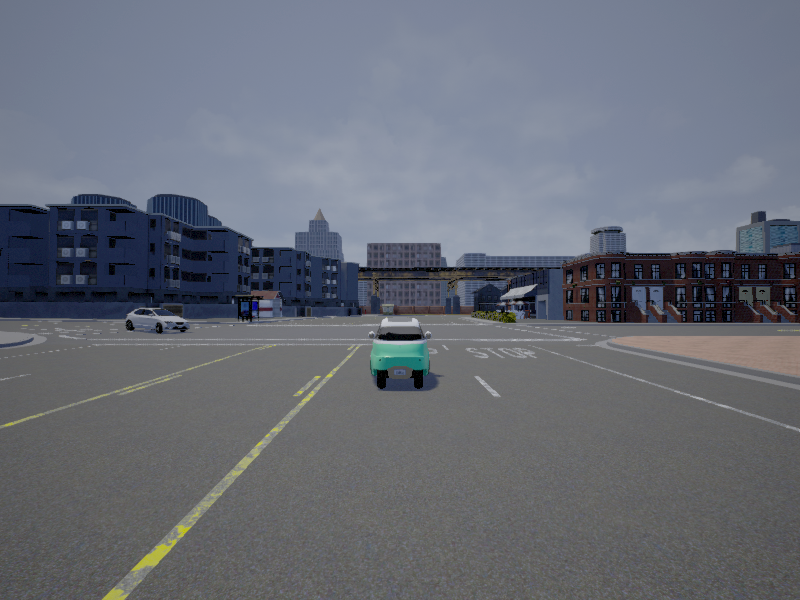Benign: (370, 316, 433, 390), (125, 306, 191, 335)
